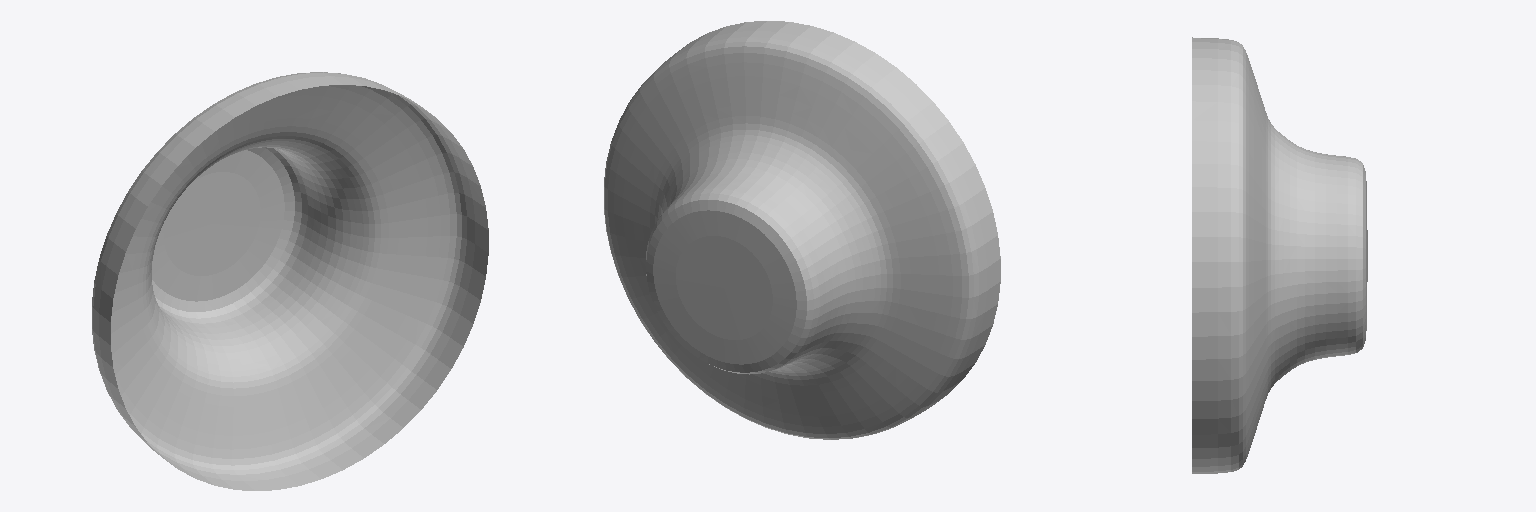
Rendered from housesp_034.obj.
3 renders of one model, left to right at view 1: azimuth 30°, elevation 25°; view 2: azimuth 150°, elevation 25°; view 3: azimuth 270°, elevation 25°, orthographic.
Bounding box in the file's own units: 8.64 × 8.65 × 3.47.